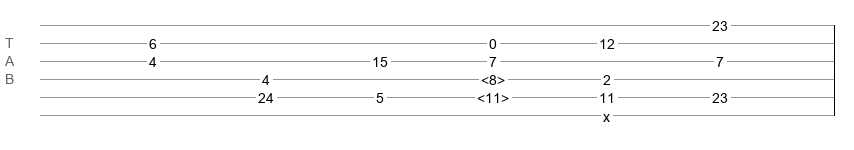0: (489, 36, 497, 46)
11: (599, 90, 615, 100)
12: (599, 36, 615, 46)
15: (372, 54, 388, 64)
2: (603, 72, 611, 82)
23: (712, 18, 728, 28), (712, 90, 728, 100)
24: (258, 90, 274, 100)
4: (149, 54, 157, 64), (262, 72, 270, 82)
5: (376, 90, 384, 100)
6: (149, 36, 157, 46)
7: (489, 54, 497, 64), (716, 54, 724, 64)
harmonic: (477, 90, 509, 100), (481, 72, 505, 82)
x: (603, 109, 610, 117)
